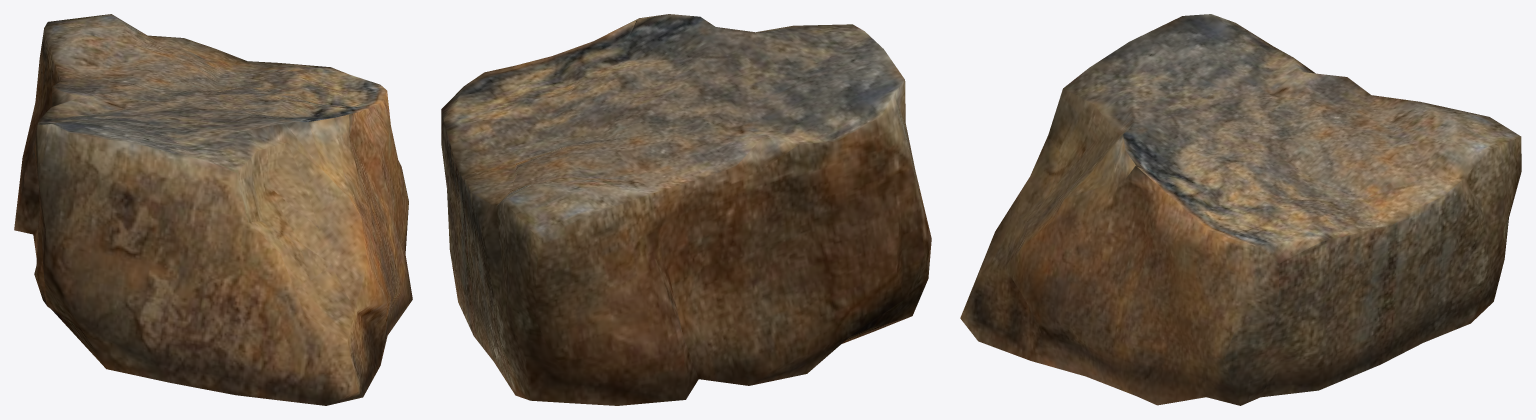
File: boulder_a.glb
The picture shows the model from 3 angles, left to right: view 1: azimuth 30°, elevation 25°; view 2: azimuth 150°, elevation 25°; view 3: azimuth 270°, elevation 25°; orthographic projection. The views are drawn at different scales.
Visible parts, largest first — view 1: boulder_a; view 2: boulder_a; view 3: boulder_a.
Boxes of the visible parts, x1,y1,x2,y2 form: boulder_a: (14, 14, 412, 405); boulder_a: (441, 14, 931, 405); boulder_a: (960, 14, 1521, 405).
Bounding box in the file's own units: 2.39 × 1.45 × 3.08.
Materials: 1 (1 with a texture image).
